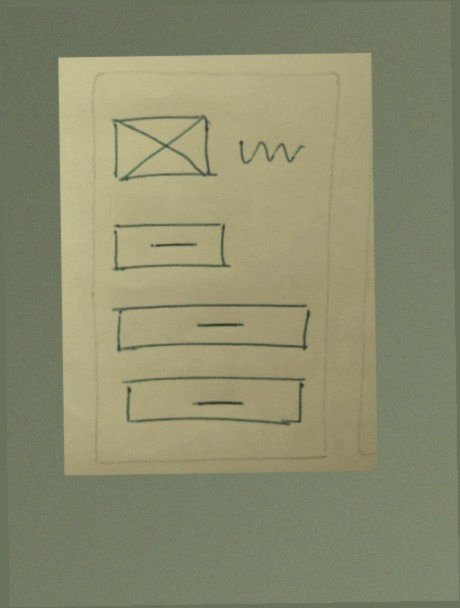button: (106, 299, 317, 357), (117, 371, 311, 432), (110, 219, 235, 278)
image: (107, 109, 224, 191)
text: (233, 136, 310, 169)
